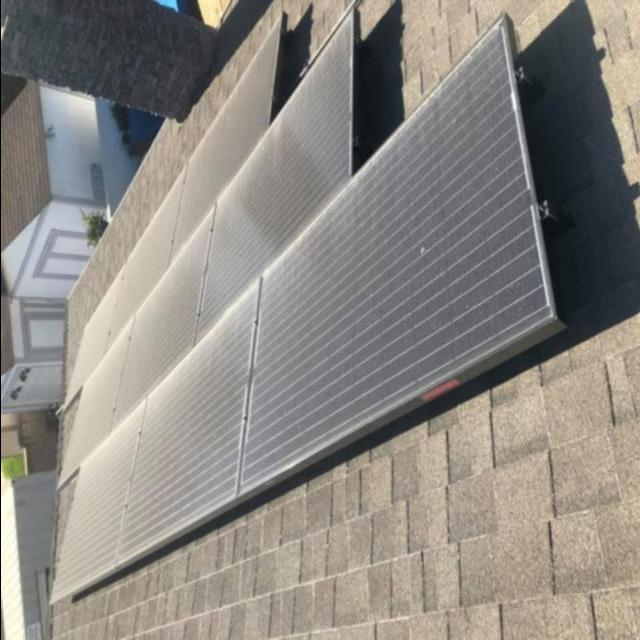soiled: (51, 16, 550, 604)
